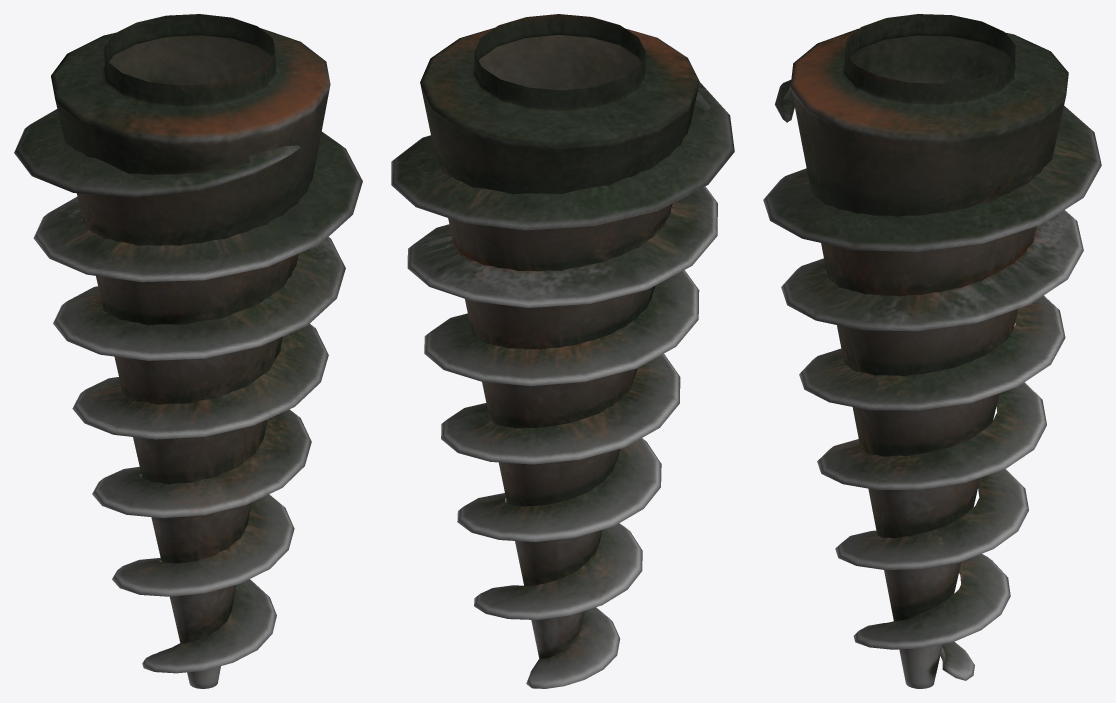
File: taladro.obj
The picture shows the model from 3 angles, left to right: view 1: azimuth 30°, elevation 25°; view 2: azimuth 150°, elevation 25°; view 3: azimuth 270°, elevation 25°; orthographic projection.
Visible parts, largest first — view 1: defaultMaterial.056, defaultMaterial.057; view 2: defaultMaterial.057, defaultMaterial.056; view 3: defaultMaterial.056, defaultMaterial.057.
Boxes of the visible parts, left/top/right/bottom form: defaultMaterial.056: left=51, top=14, right=330, bottom=688; defaultMaterial.057: left=14, top=109, right=362, bottom=673; defaultMaterial.057: left=391, top=82, right=734, bottom=688; defaultMaterial.056: left=420, top=14, right=699, bottom=658; defaultMaterial.056: left=790, top=14, right=1068, bottom=688; defaultMaterial.057: left=763, top=66, right=1101, bottom=680.
Size of the model in its own units: 0.9006 by 1.8 by 0.8738.
